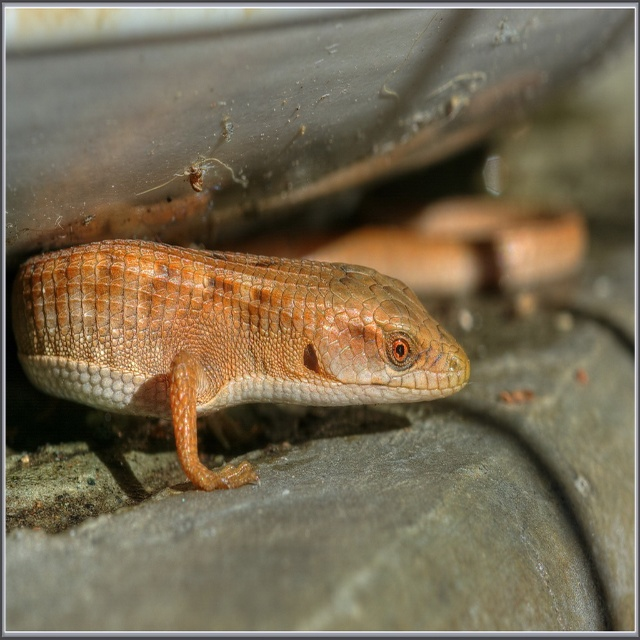Lizard: (11, 238, 471, 492)
